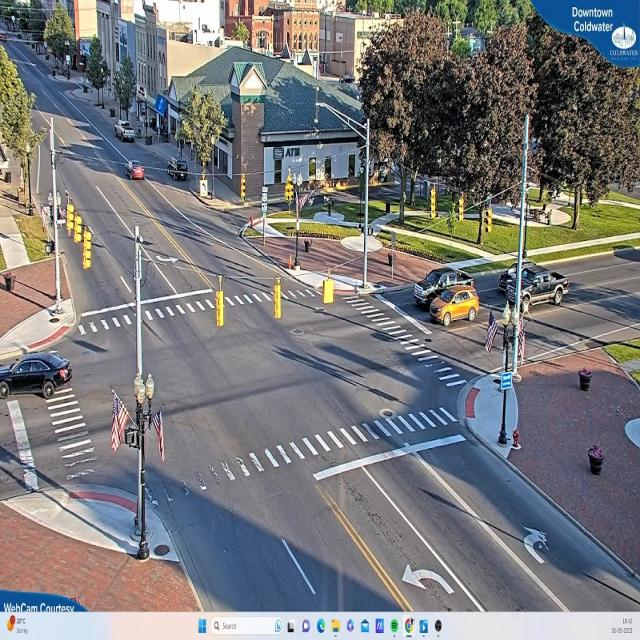car: (2, 354, 70, 398), (509, 266, 567, 313), (428, 287, 479, 330), (416, 268, 441, 310), (115, 123, 137, 143), (125, 162, 146, 182)
